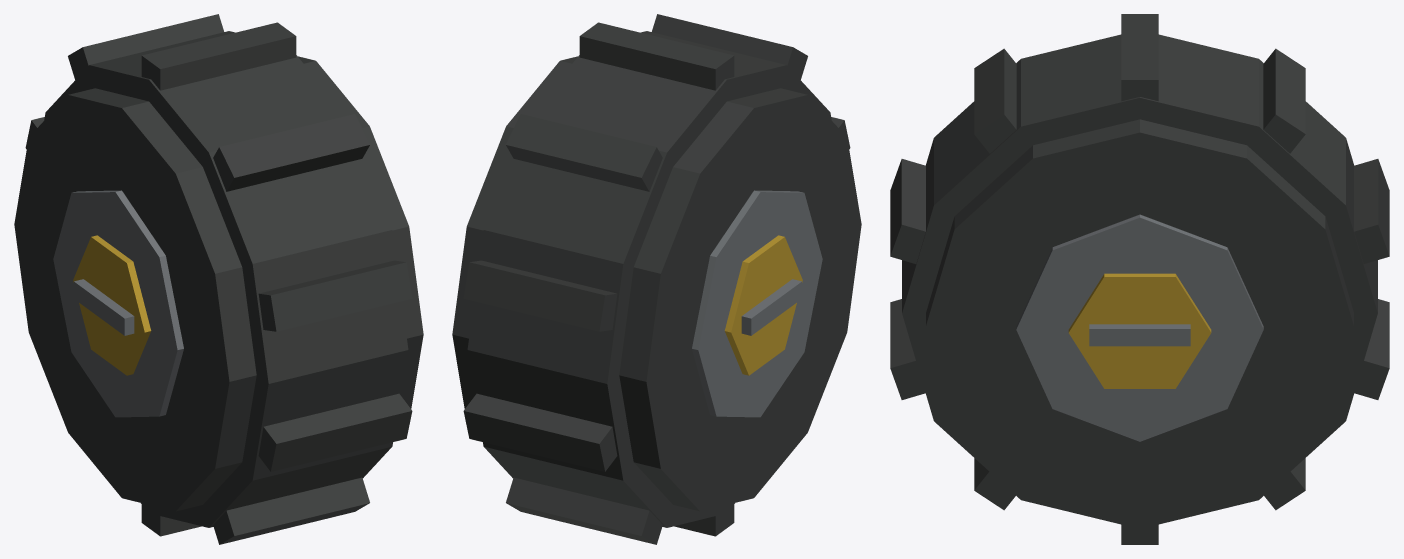
File: item_tyre_desert.glb
3 views of the same model, side by side, from view 1: azimuth 30°, elevation 25°; view 2: azimuth 150°, elevation 25°; view 3: azimuth 270°, elevation 25° (orthographic).
Visible parts, largest first — view 1: tyre; view 2: tyre; view 3: tyre.
Boxes of the visible parts, box(x1,y1,x2,y2) form: tyre: box(14, 14, 423, 544); tyre: box(452, 14, 861, 544); tyre: box(890, 14, 1389, 544).
Bounding box in the file's own units: 0.37 × 0.69 × 0.6717.
